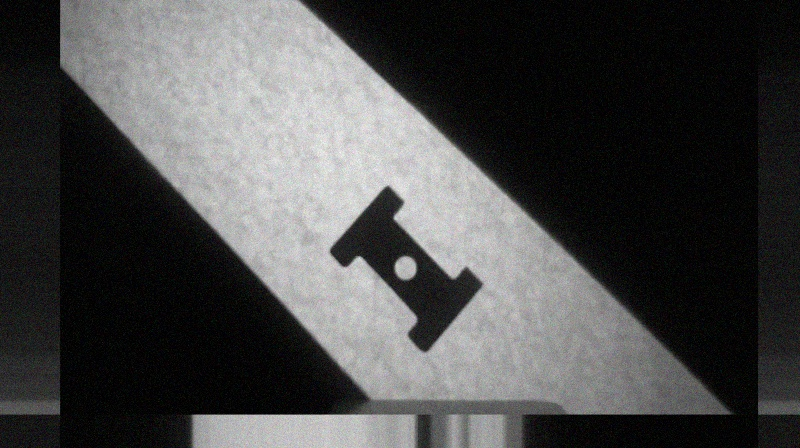O002: (325, 183, 485, 355)
